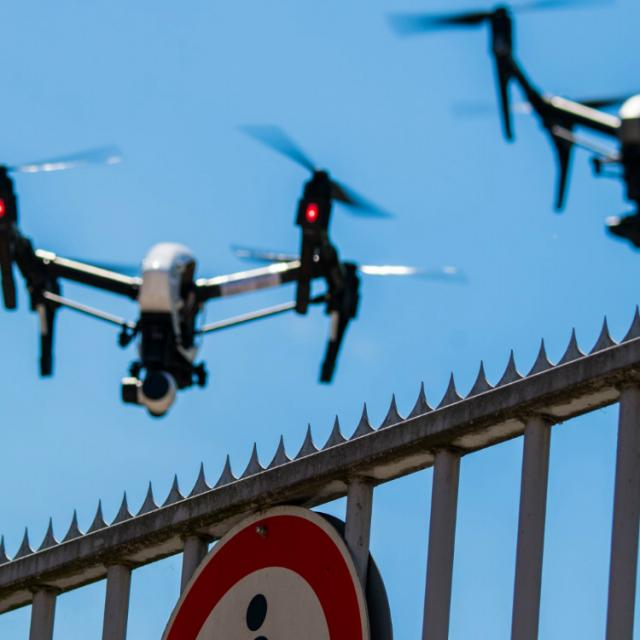drone: (0, 105, 434, 415), (358, 0, 640, 225)
